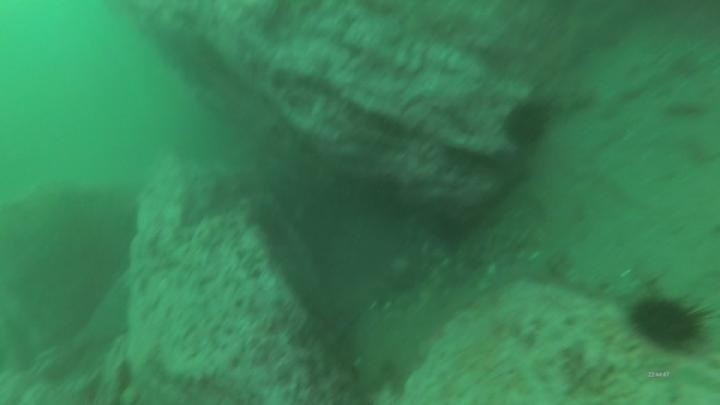echinus: (625, 290, 711, 356), (500, 98, 552, 150)
